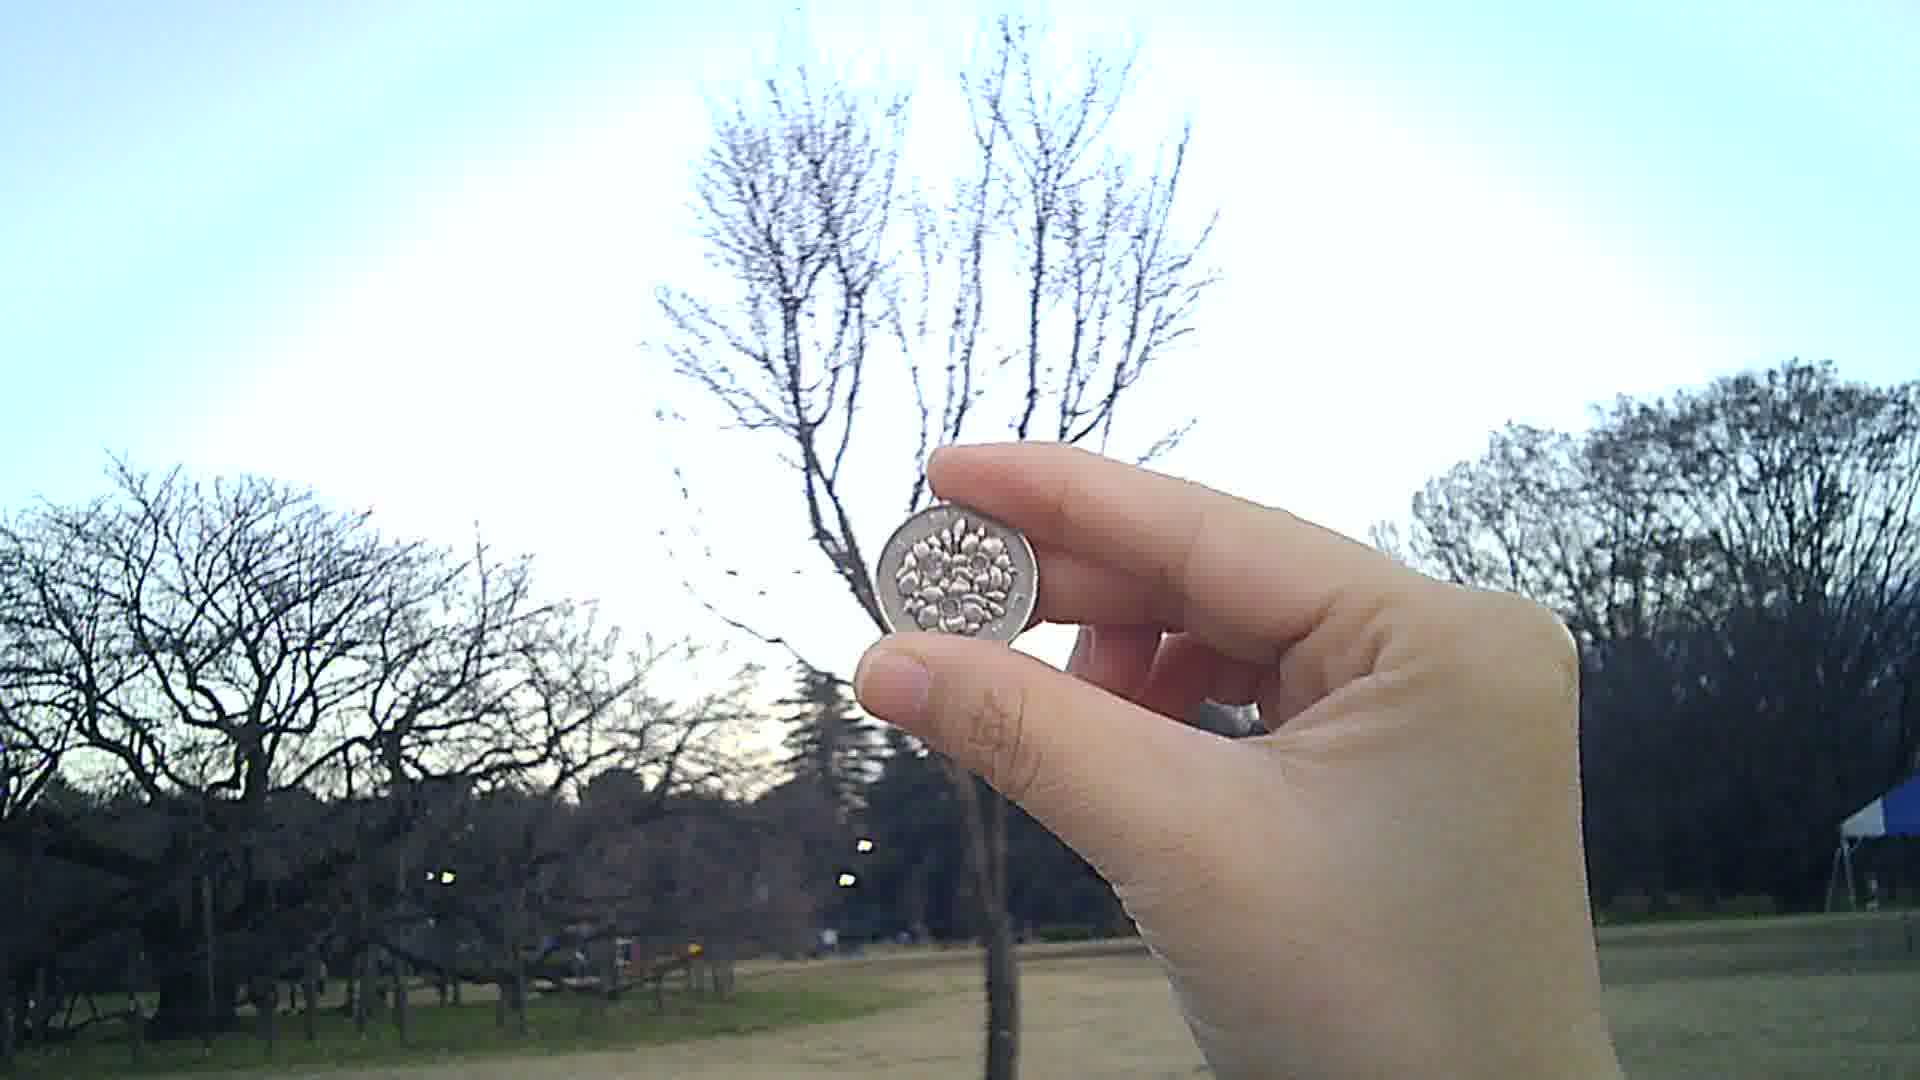100 Yen: (866, 497, 1046, 651)
